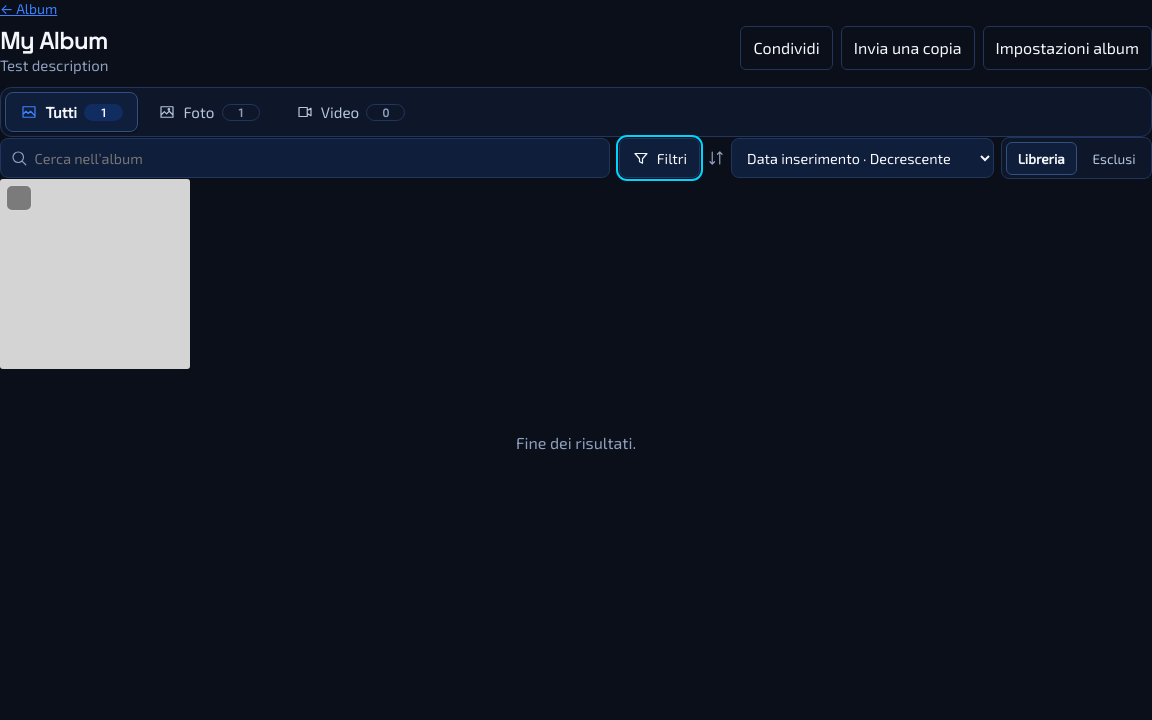
Test: AlbumDetailPage › opens the album settings panel with TV / delete controls
Expected: the heading "My Album" is shown, [0,26,108,56]
Click the button with test id "album-open-settings" at (1067, 48), box [983,26,1151,70]
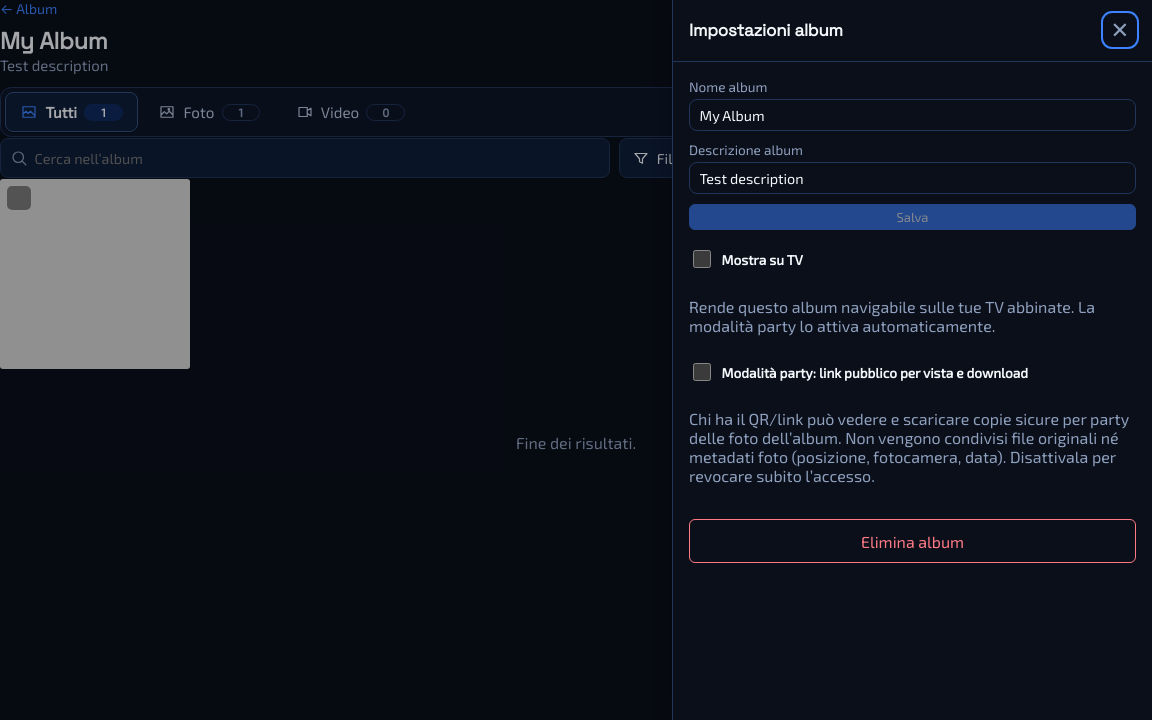
Expected: the dialog with test id "album-settings-panel" is shown, [672,0,1151,719]
Expected: the checkbox with test id "album-tv-toggle" is shown, [693,250,711,268]
Expected: the button with test id "album-delete" is shown, [689,519,1136,563]
